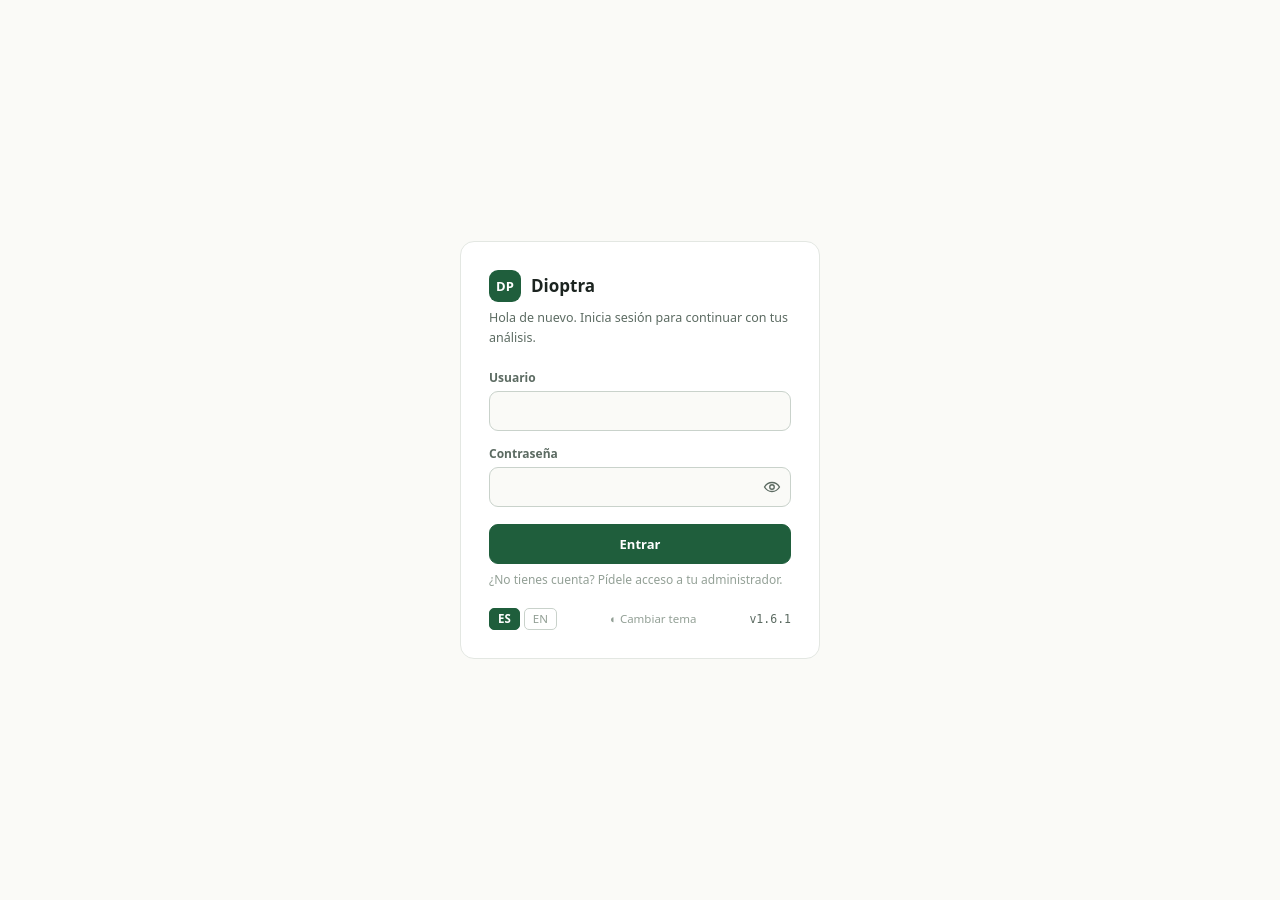
Scenario: test plan screen › is read-only for the analyst even at the plan stage
Type "mmarin" into the field labelled "Usuario" at (640, 411), box [489, 391, 791, 431]
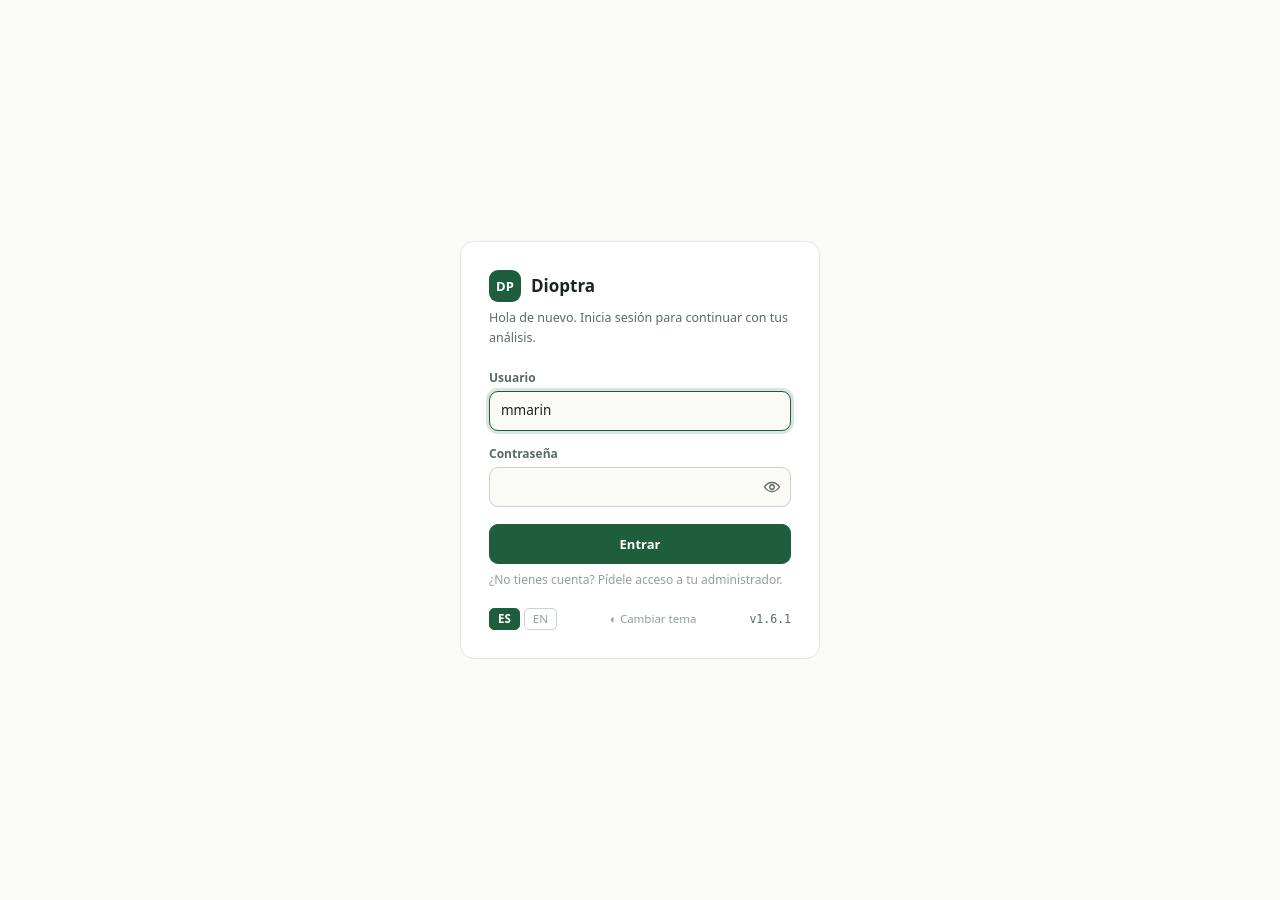
Type "correct-horse-battery-staple" into the password field labelled "Contraseña" at (640, 487), box [489, 467, 791, 507]
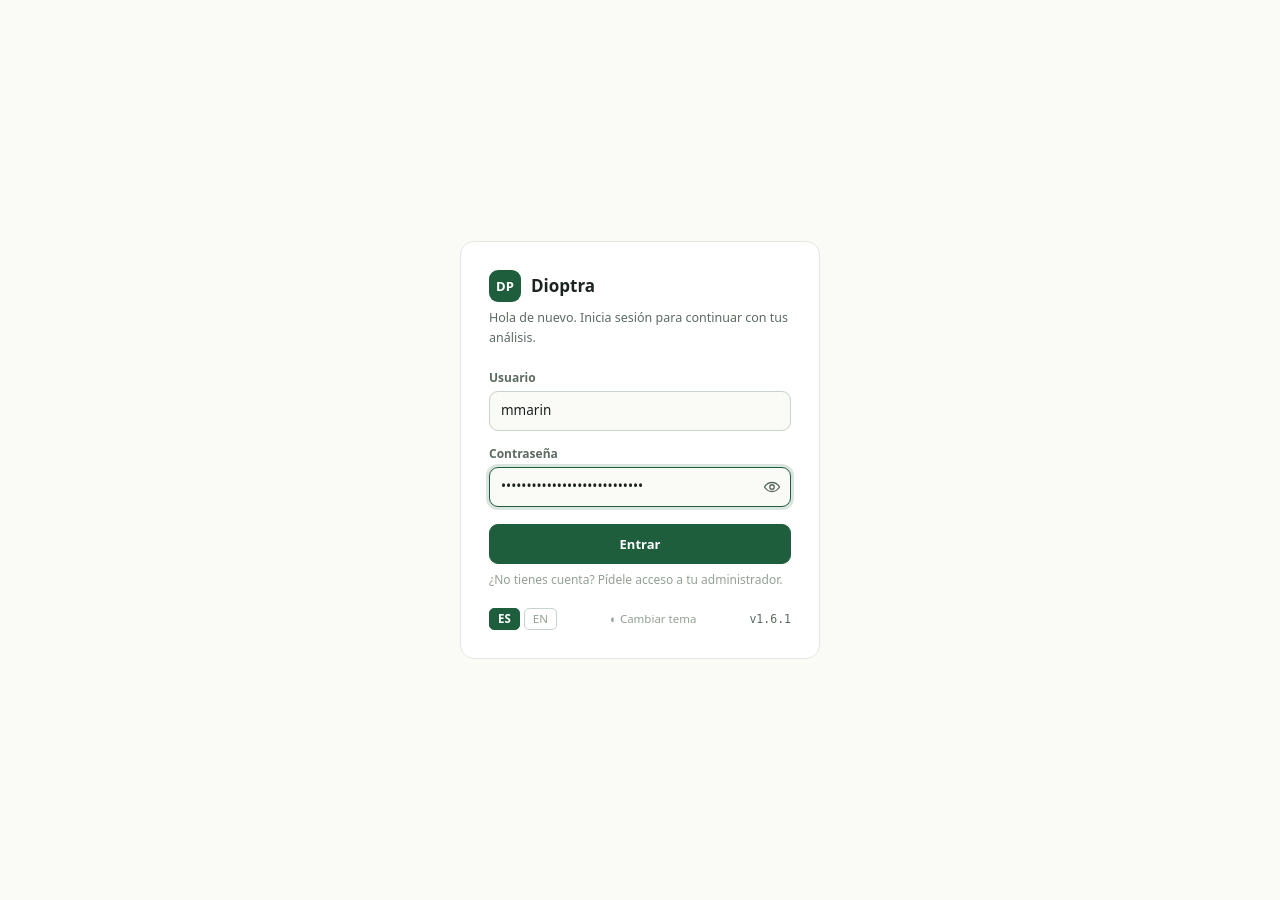
Click the button "Entrar" at (640, 544), box [489, 524, 791, 564]
(page scrolled)
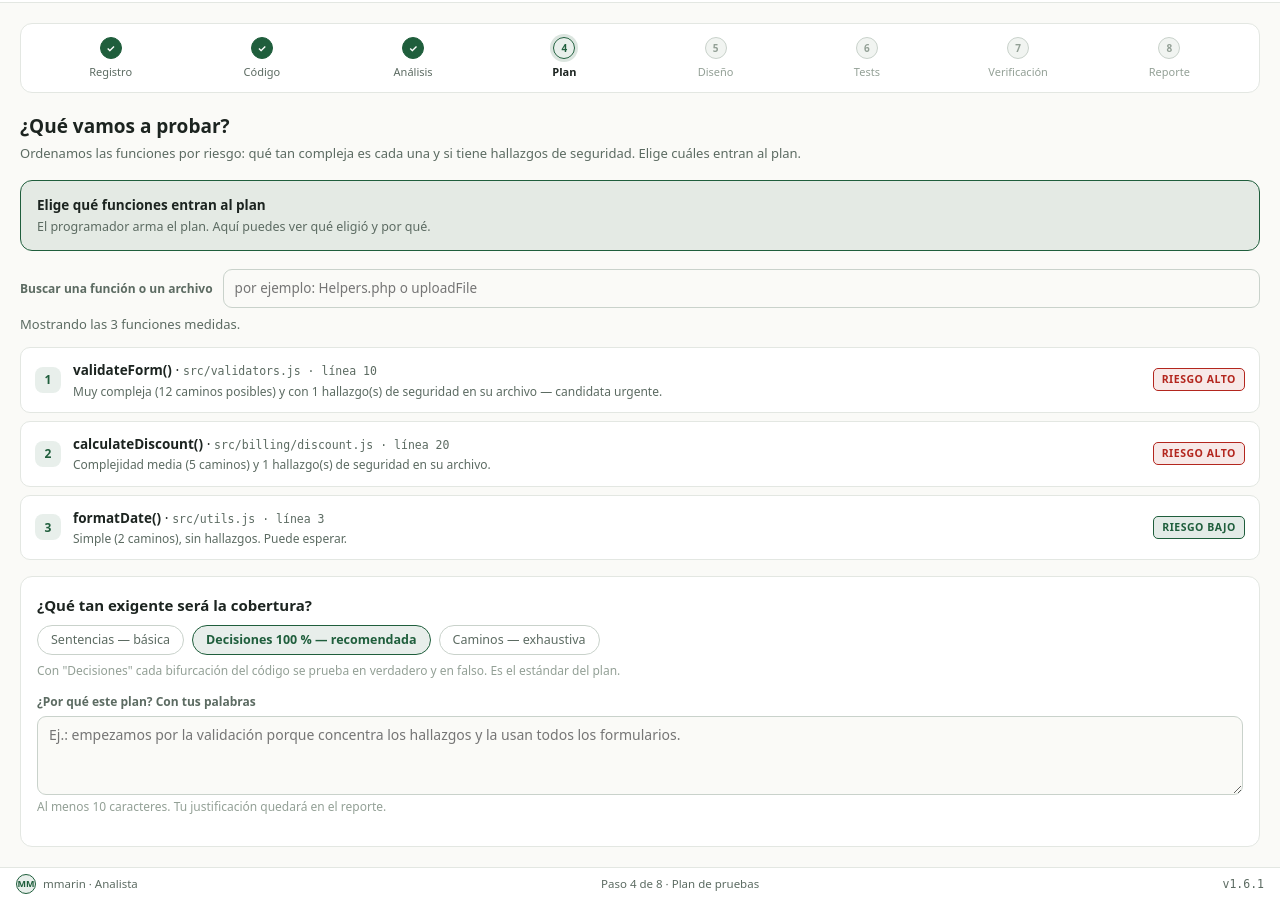
Now the text "Elige qué funciones entran al plan" is shown, box [37, 196, 266, 214]
Now the text "El programador arma el plan. Aquí puedes ver qué eligió y por qué." is shown, box [37, 218, 431, 235]
Now the text box labelled "¿Por qué este plan? Con tus palabras" is disabled, box [37, 716, 1243, 795]
